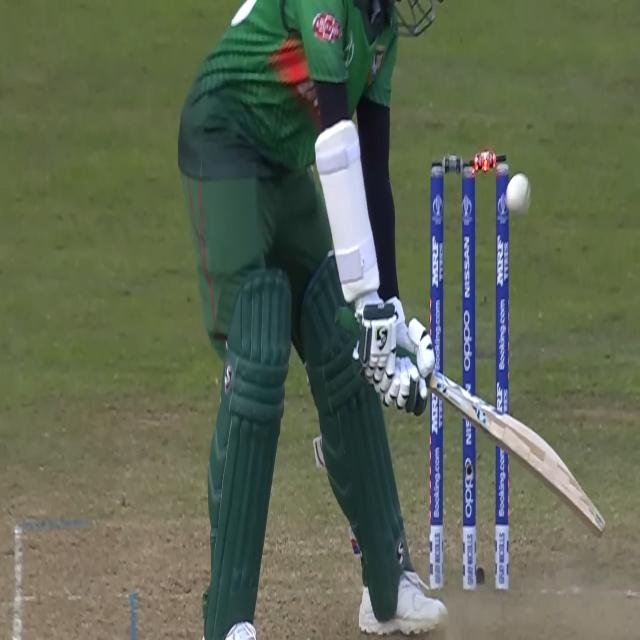ball: (504, 175, 533, 214)
